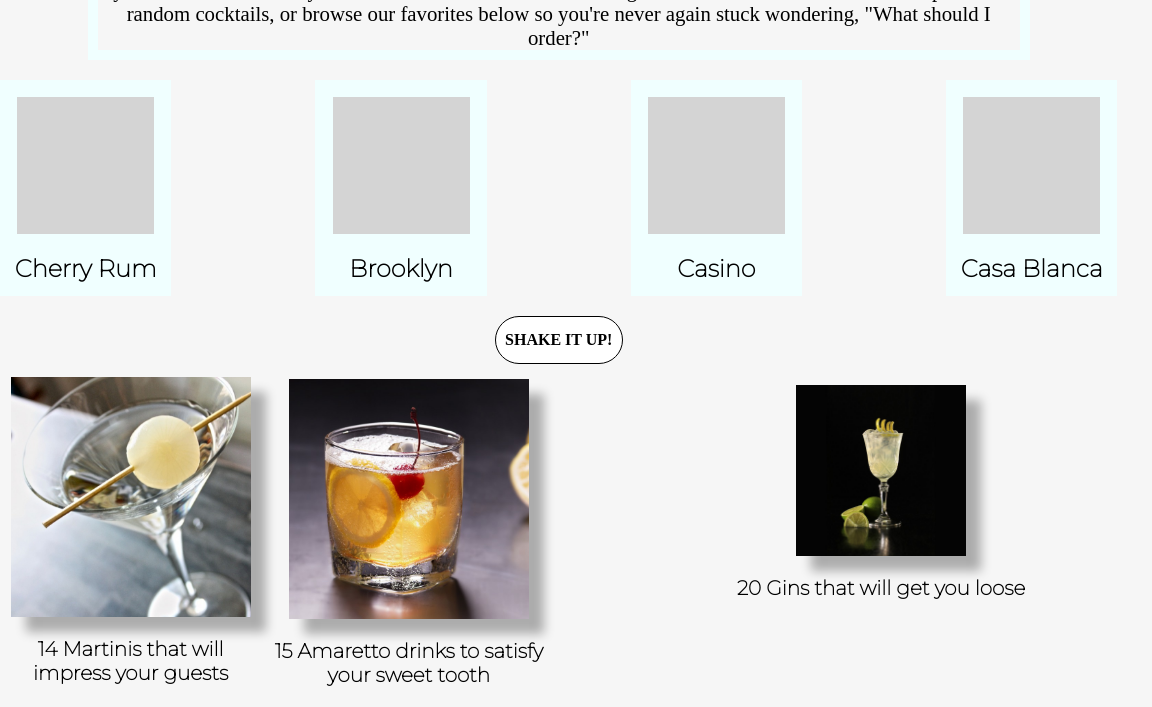
Specific spec › should no longer show the specialty or random container after a specialty drink button is clicked
(page scrolled)
Click the element with class "amarettoButton" at (409, 536), box [261, 364, 556, 706]
(page scrolled)
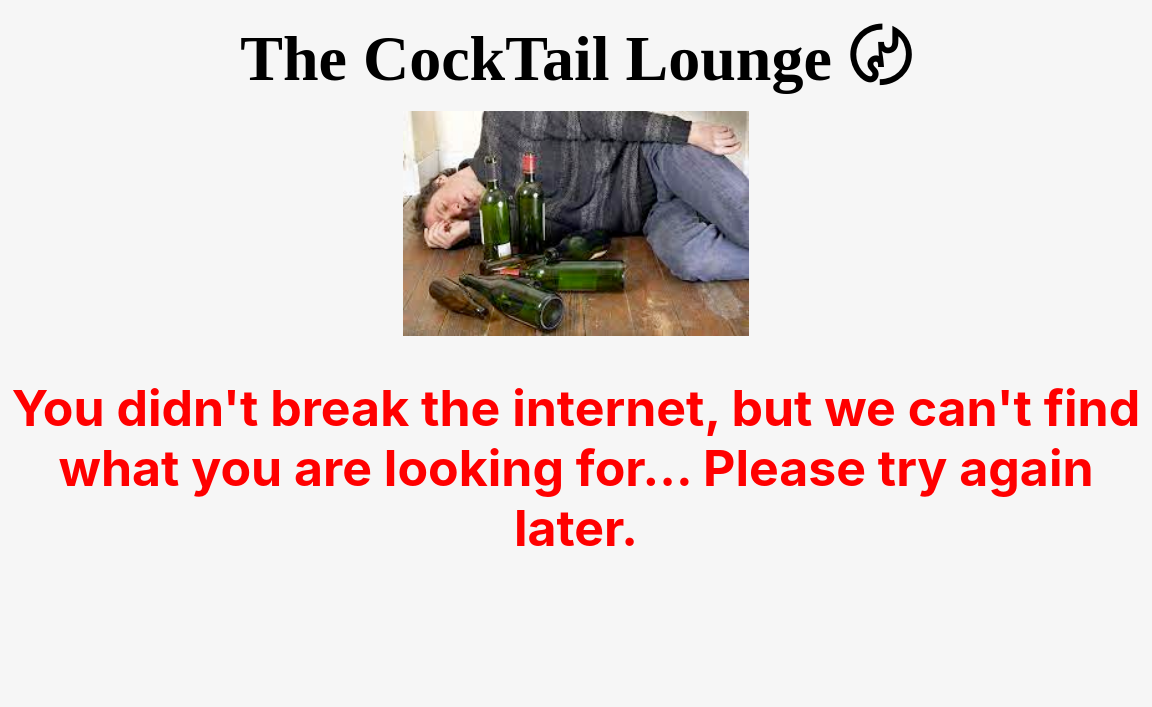
Expected: the element with class "random-container" is gone
